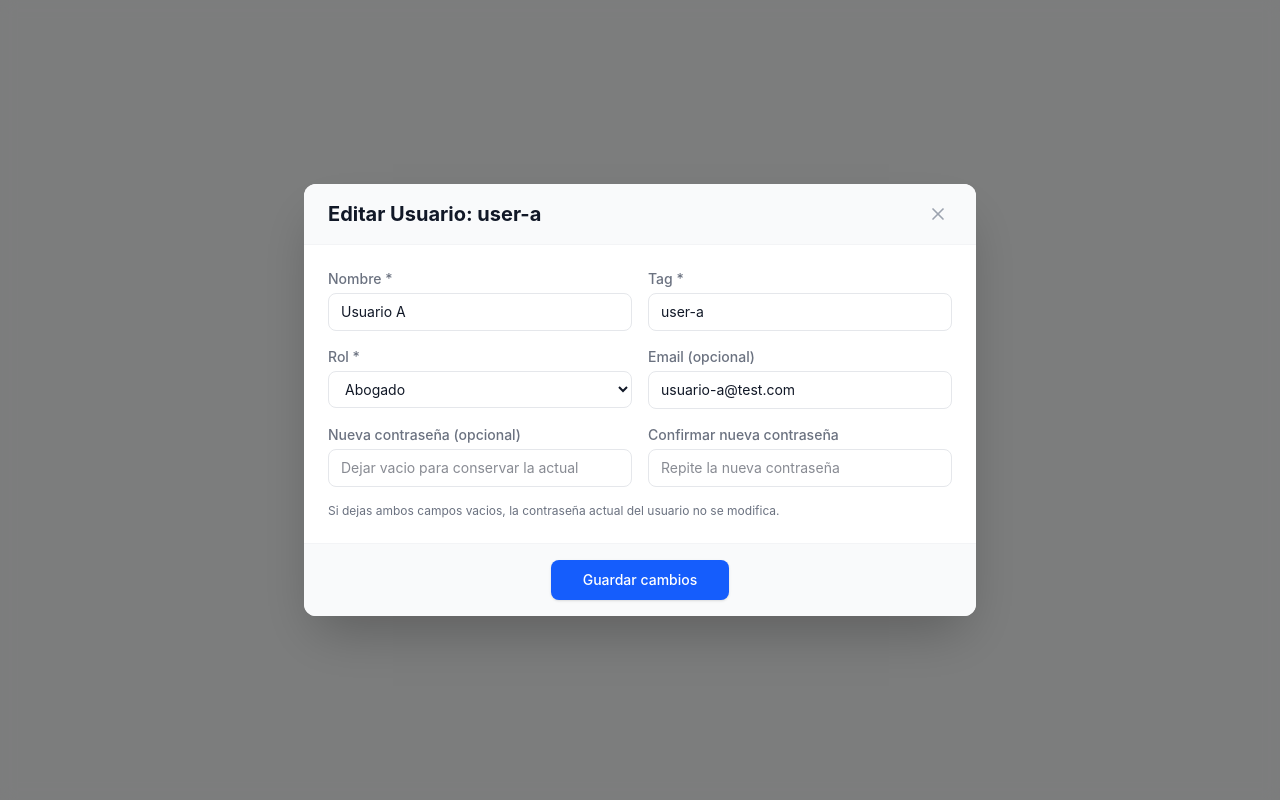
AdminEditUserModal › bloquea el submit si la nueva contraseña no alcanza el minimo requerido
Type "corta" into the password field labelled "Nueva contraseña (opcional)" at (480, 468), box [328, 449, 632, 487]
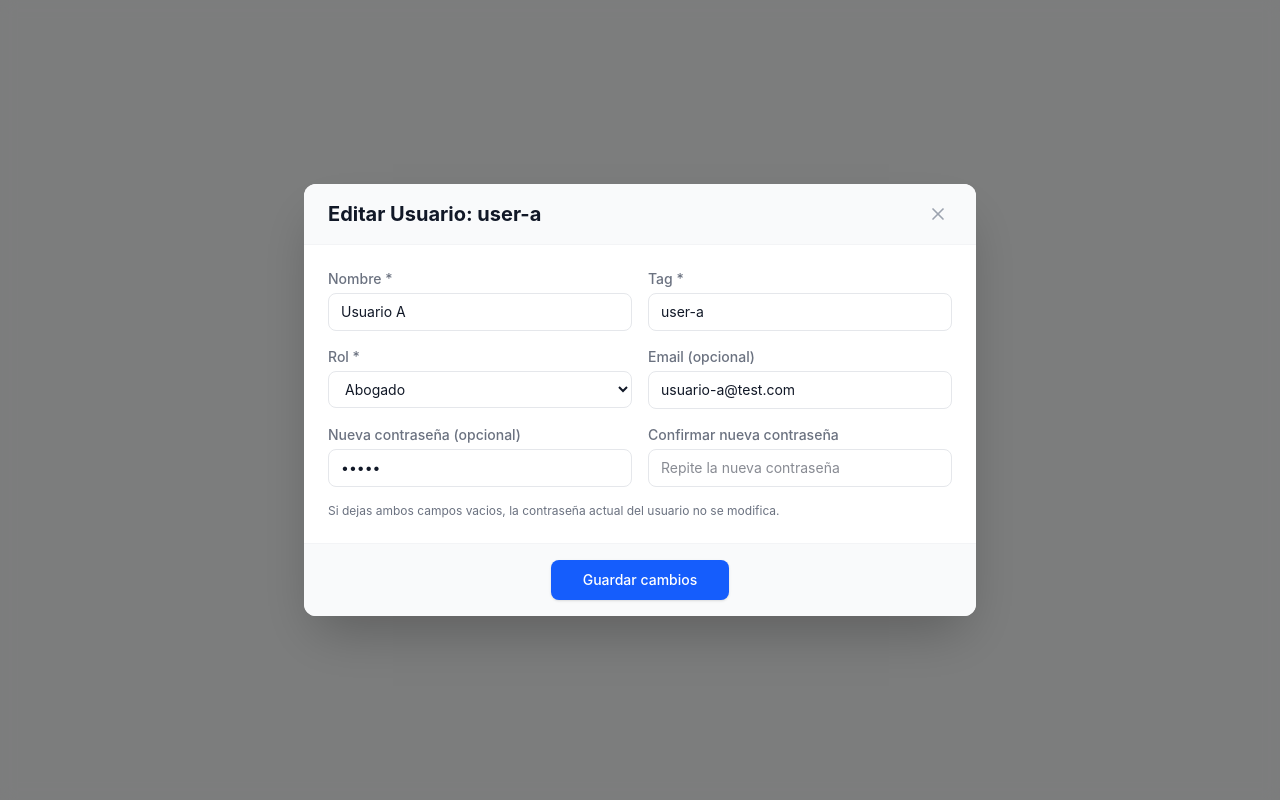
Type "corta" into the password field labelled "Confirmar nueva contraseña" at (800, 468), box [648, 449, 952, 487]
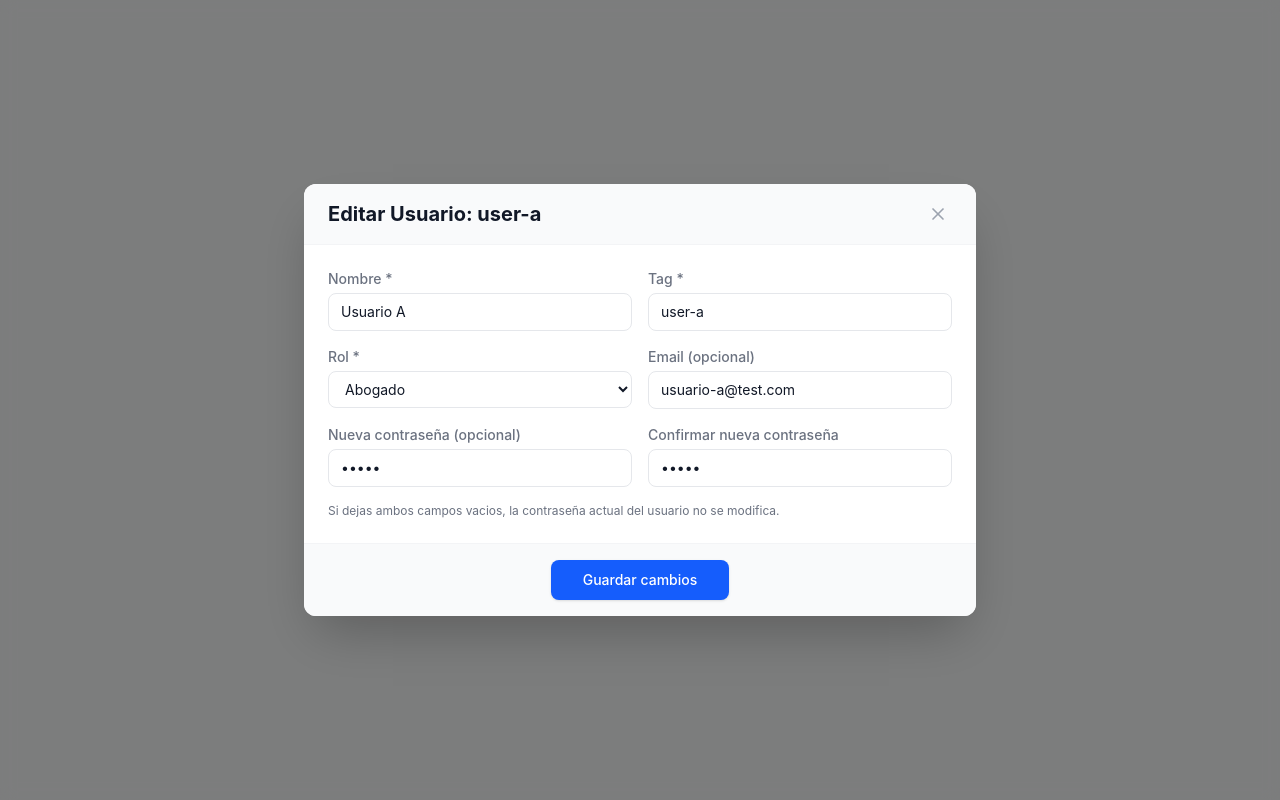
Click the button "Guardar cambios" at (640, 580), box [551, 560, 729, 600]
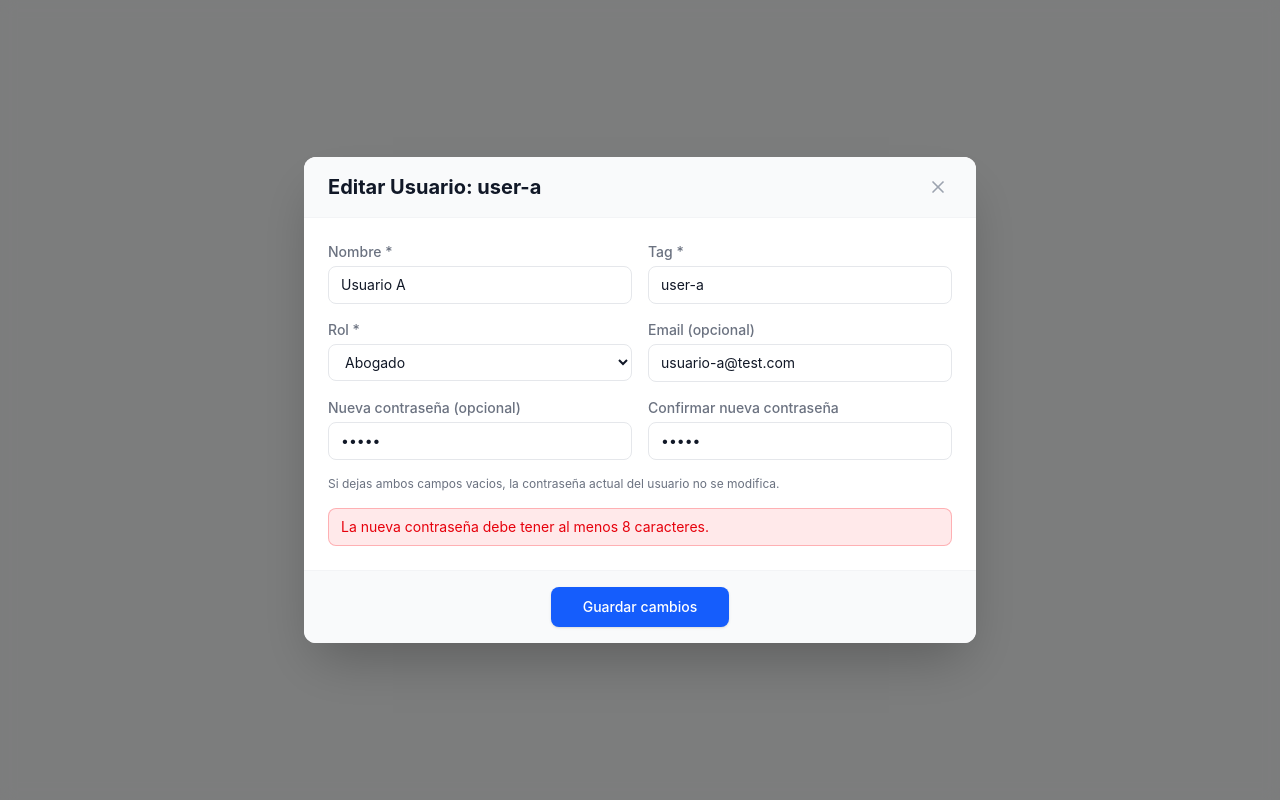
expect the text "La nueva contraseña debe tener al menos 8 caracteres." is shown: met, box [328, 508, 952, 546]
